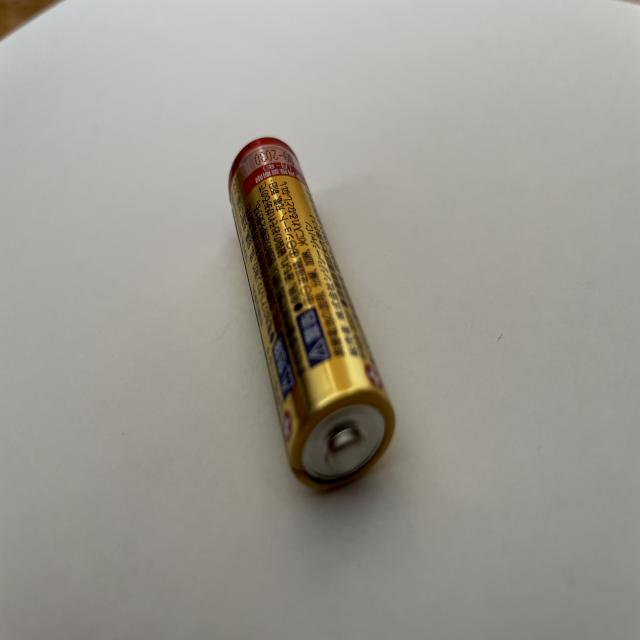AAA: (226, 135, 402, 501)
